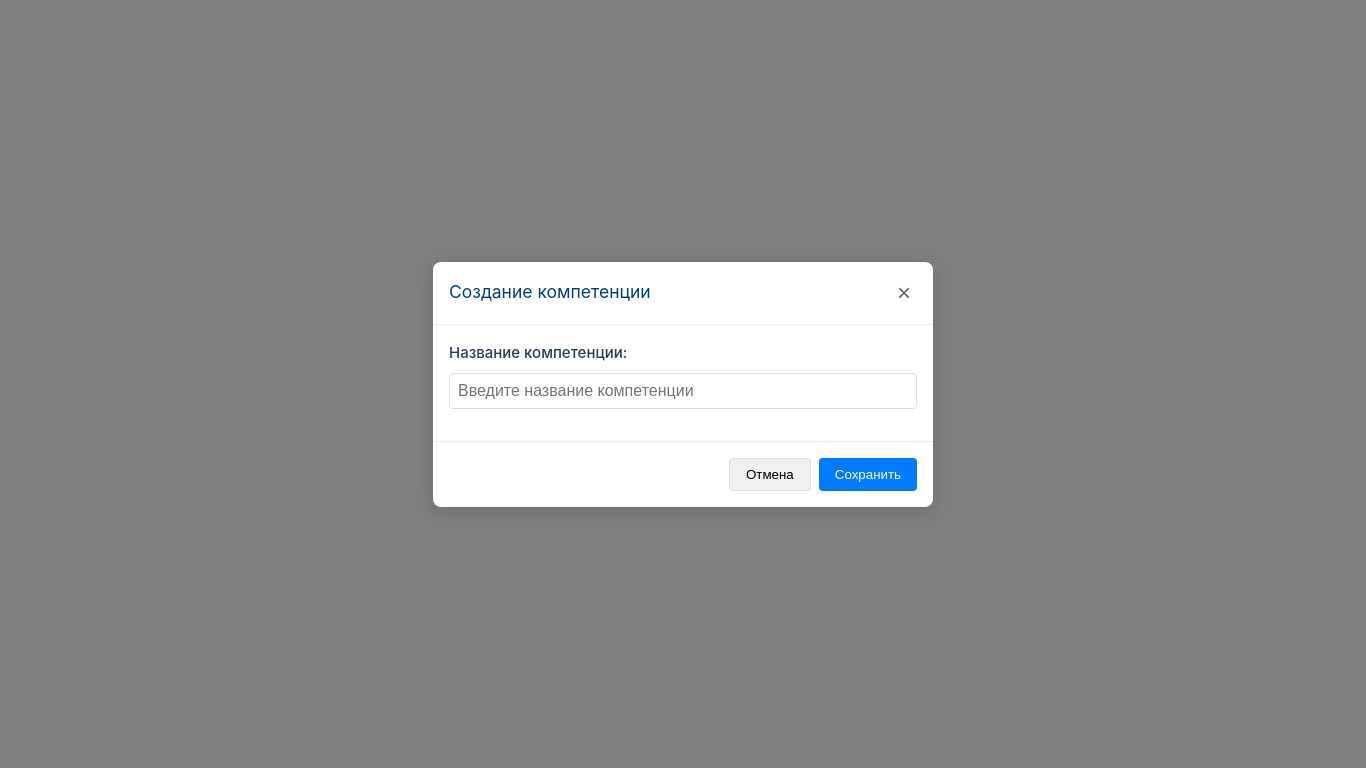
CompetenceModal.vue › сбрасывает форму при закрытии
The image size is (1366, 768).
Type "Тест" into the field with placeholder "Введите название компетенции" at (683, 390), box x1=449 y1=372 x2=917 y2=408
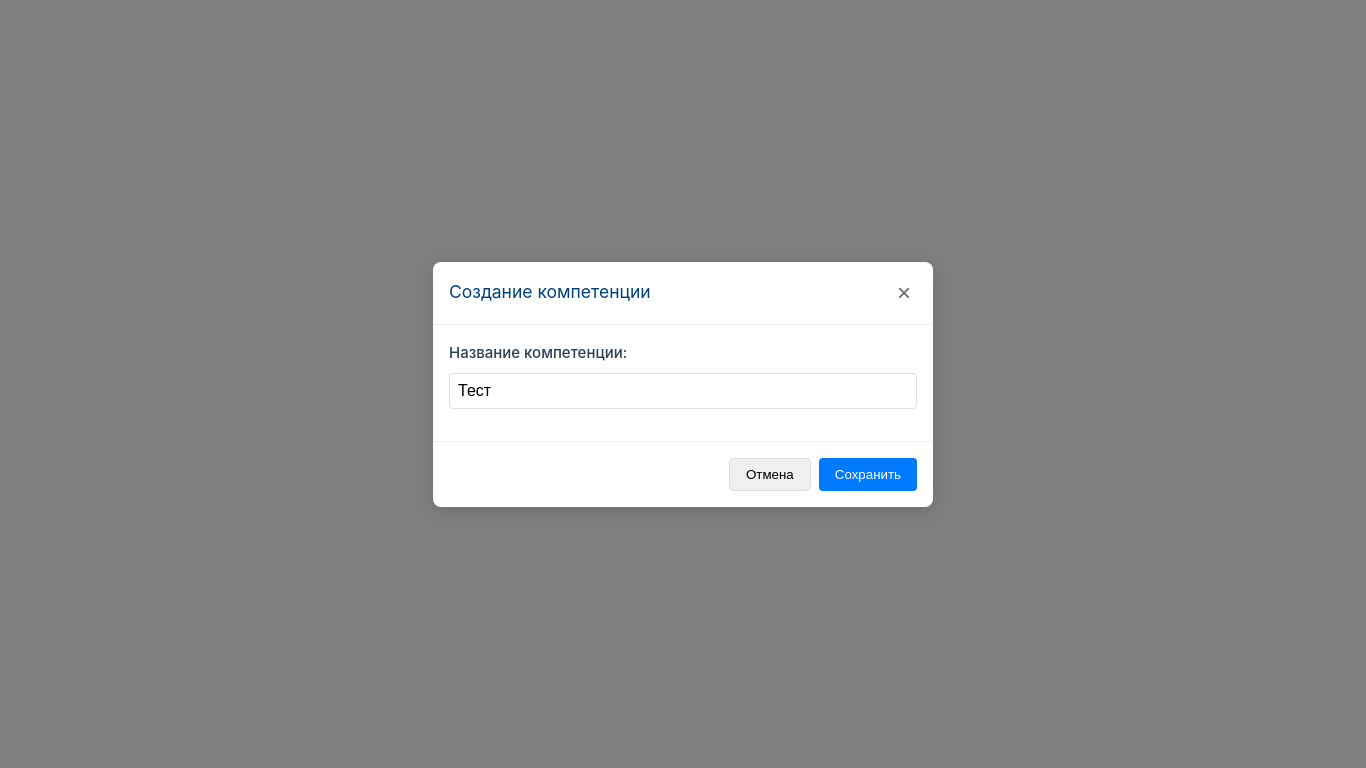
Click the button with class "close-btn" at (904, 292), box x1=891 y1=278 x2=917 y2=308
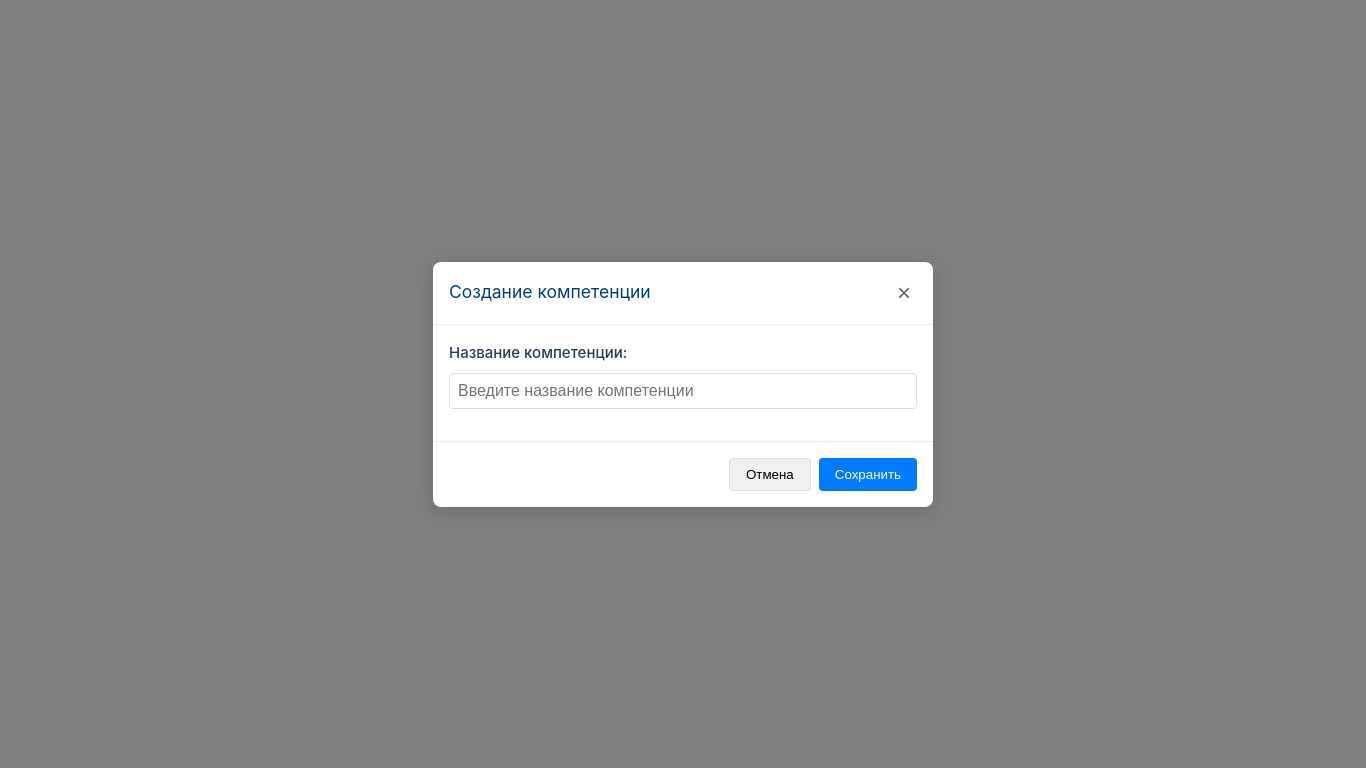
Now the field with placeholder "Введите название компетенции" is empty, box x1=449 y1=372 x2=917 y2=408
